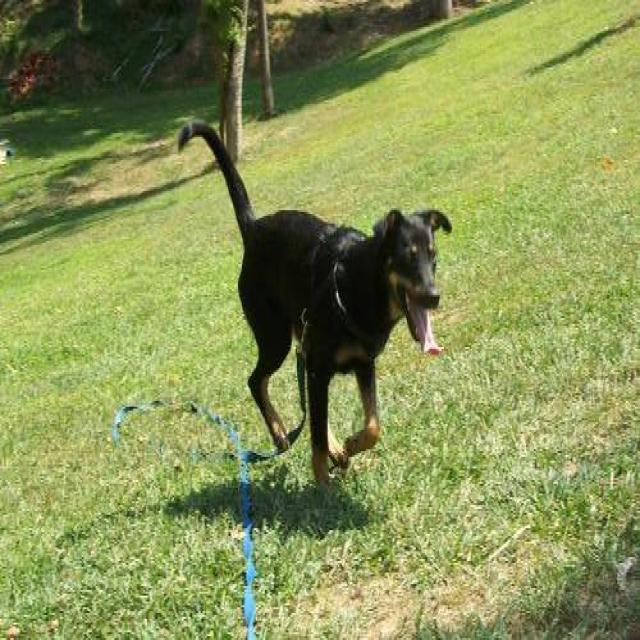dog: (176, 118, 452, 488)
